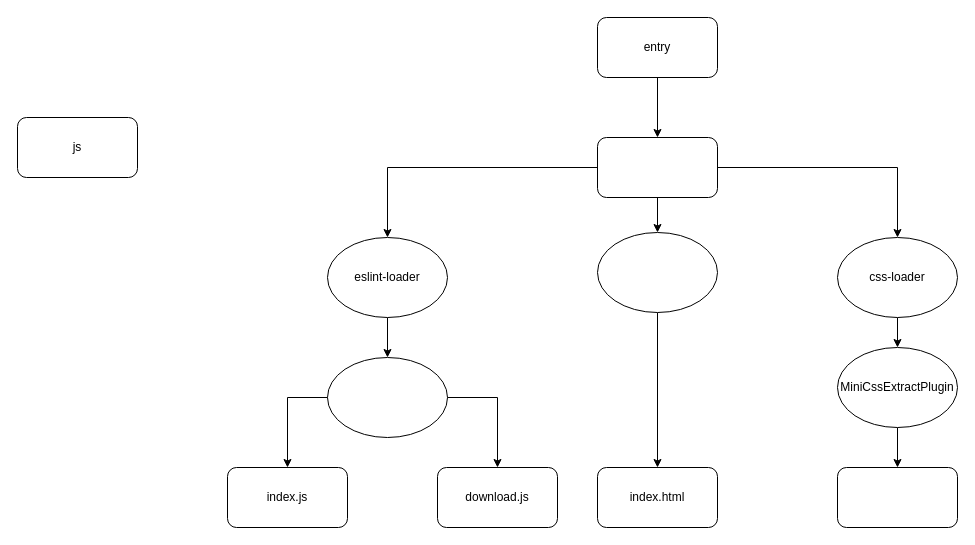
Image size: 975x545. Some labels were removed from this diagram. The centre of each missing label's shape, as x and y in pixels:
babel-loader: pixel 387 397
HtmlWebpackPlugin: pixel 657 272
index.css: pixel 897 497
main.js: pixel 657 167
